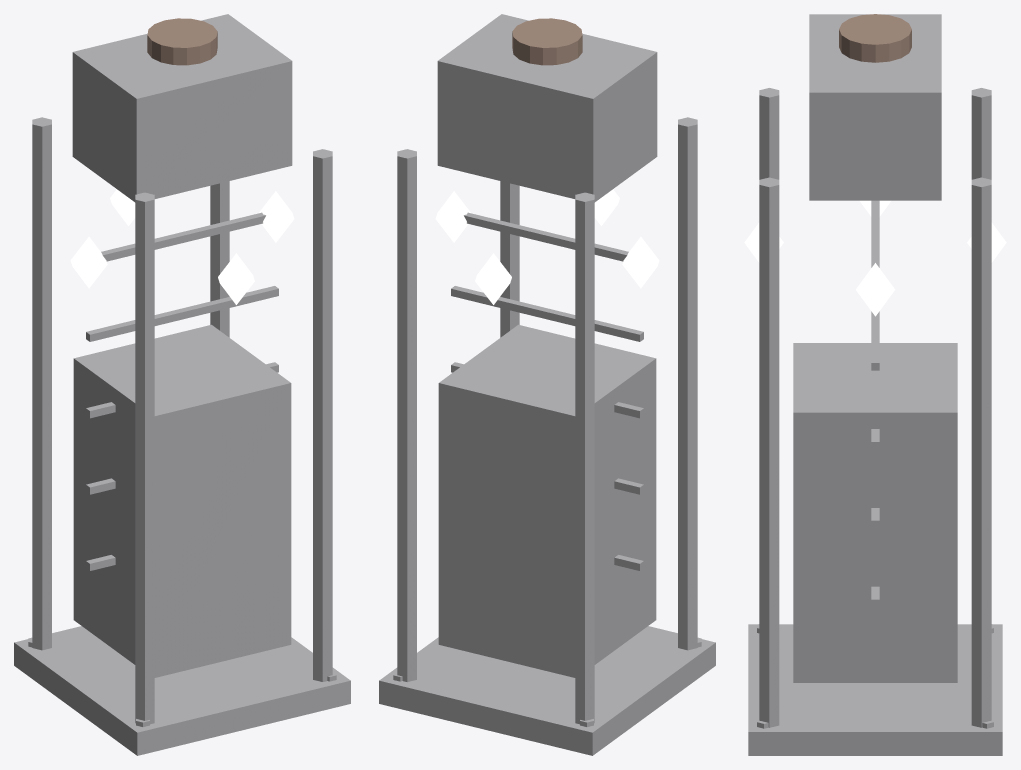
File: elevator_legendary.glb
The picture shows the model from 3 angles, left to right: view 1: azimuth 30°, elevation 25°; view 2: azimuth 150°, elevation 25°; view 3: azimuth 270°, elevation 25°; orthographic projection. The views are drawn at different scales.
Parts seen in each view (by area): view 1: elevator, cage; view 2: elevator, cage; view 3: elevator, cage.
Part boxes in pixels (x1=…): elevator: x1=14, y1=14, x2=350, y2=755; cage: x1=73, y1=324, x2=291, y2=677; elevator: x1=379, y1=14, x2=715, y2=755; cage: x1=438, y1=324, x2=656, y2=677; elevator: x1=744, y1=14, x2=1006, y2=755; cage: x1=793, y1=343, x2=957, y2=682.
Bounding box in the file's own units: 1.58 × 4.48 × 1.58.
